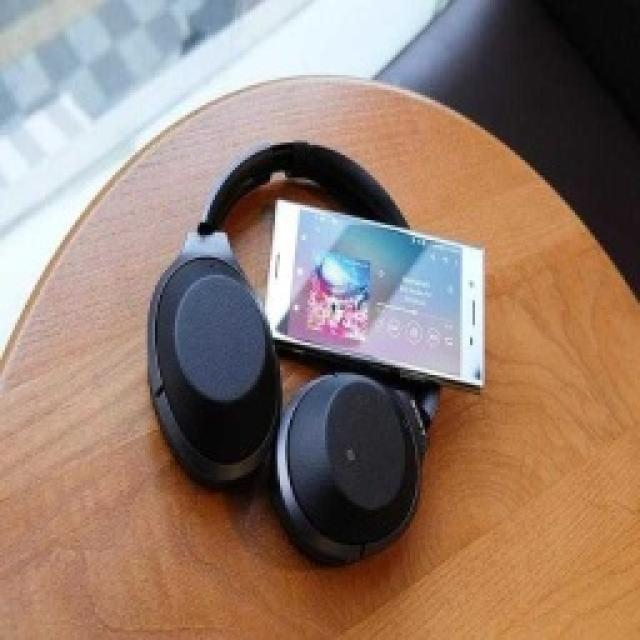headphones: (142, 137, 442, 565)
